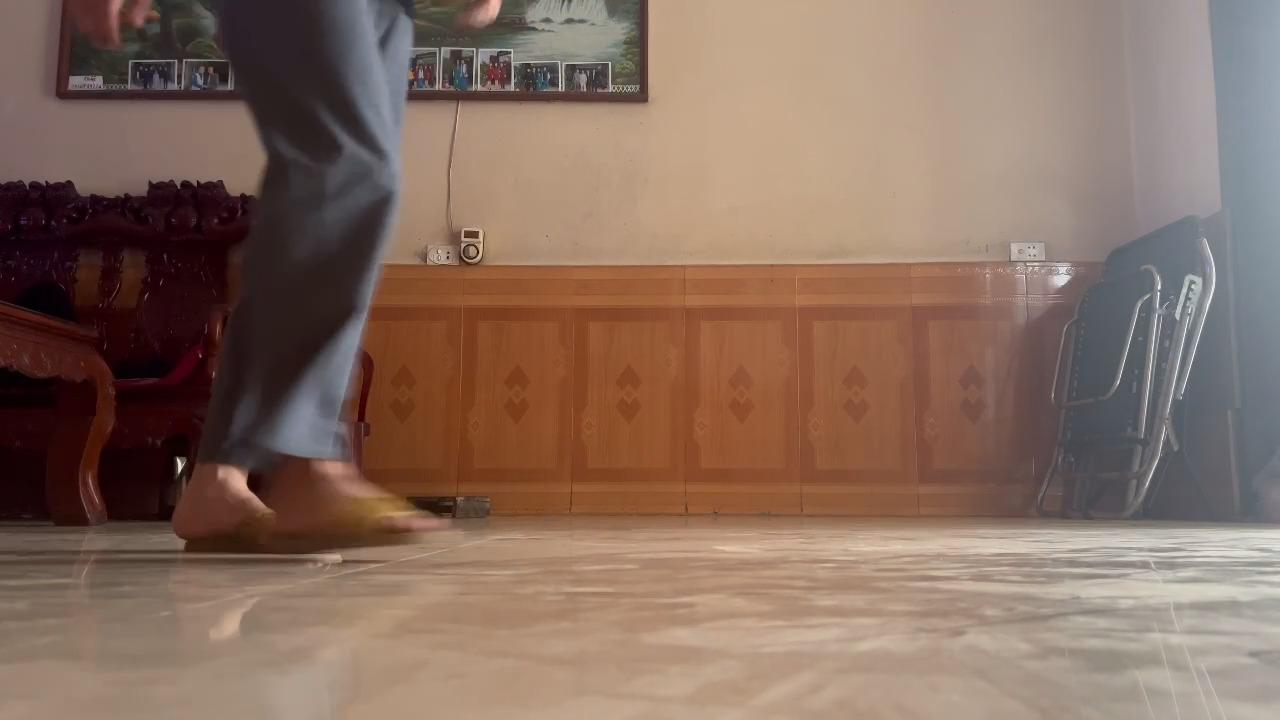no-boot: (263, 473, 457, 560), (163, 482, 273, 560)
